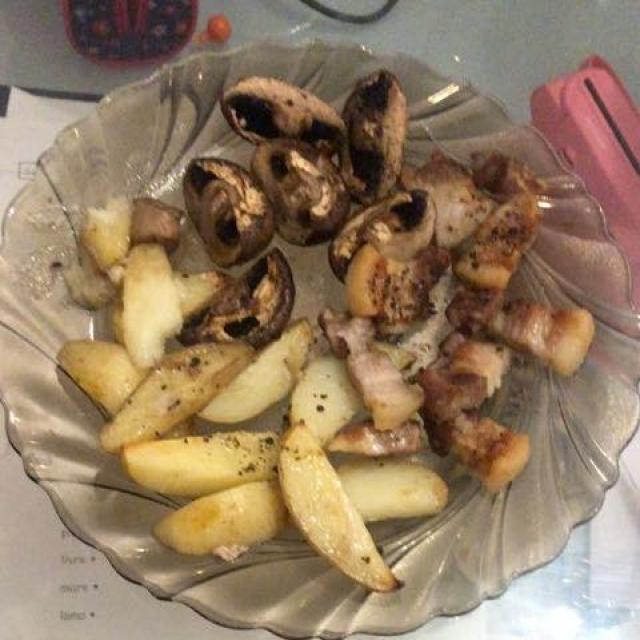mushrooms: (186, 73, 578, 485)
